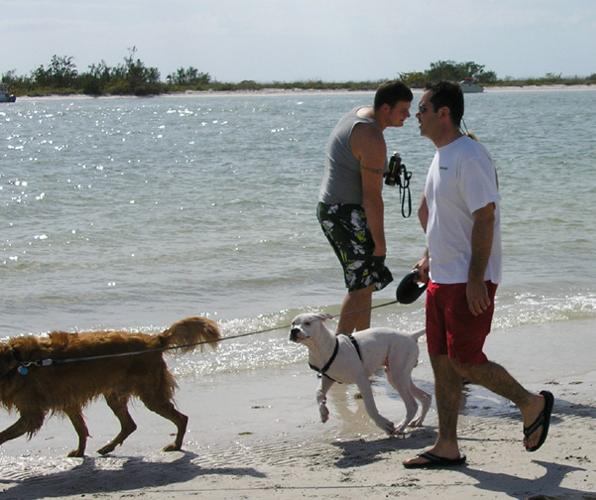person: (403, 81, 556, 469)
